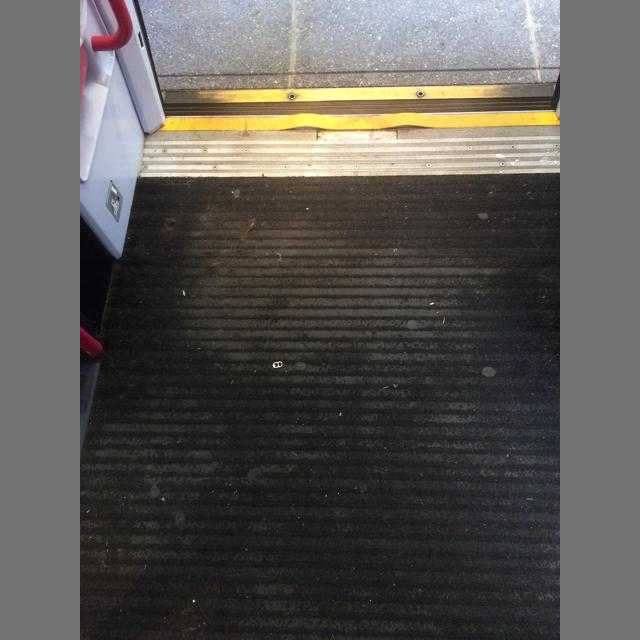litter: (273, 361, 283, 368)
